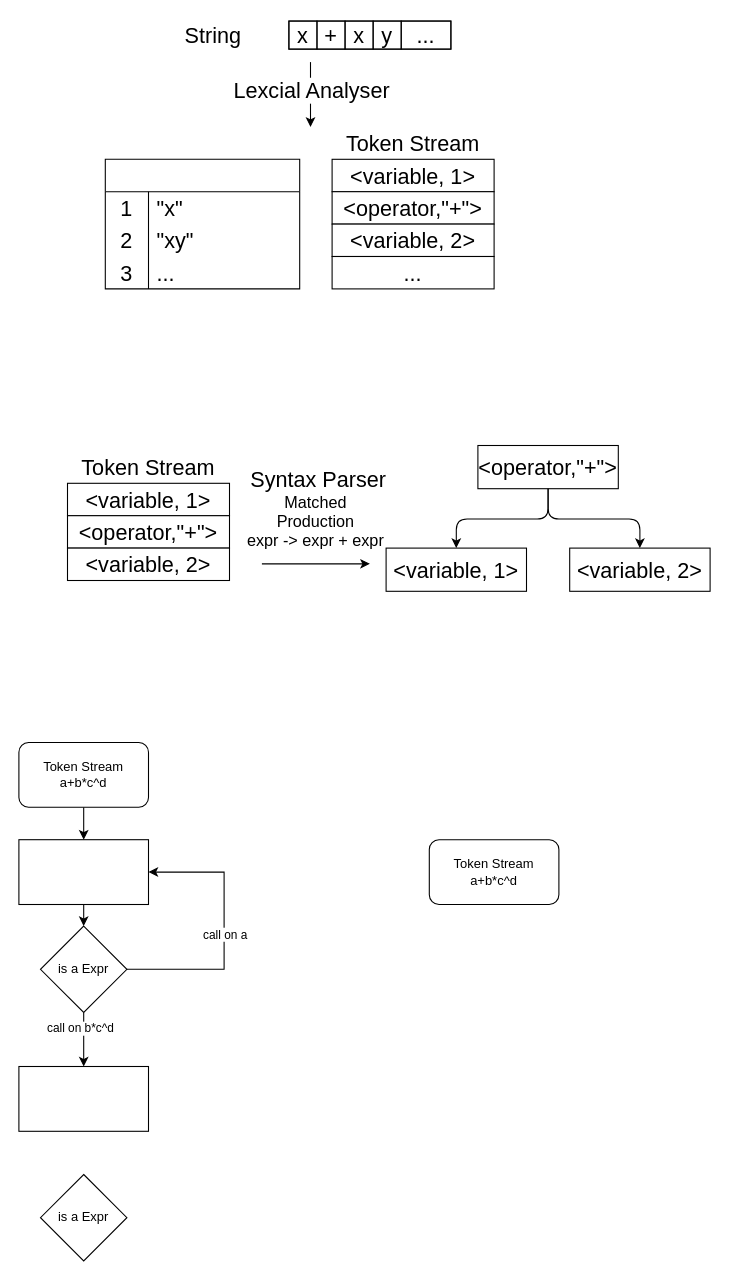
The diagram is 729 pixels wide and 1280 high, and some of its shapes have lost their labels. The shapes that lost their labels are listed below. From the top down, each one's box as (x1, y1, x2, y2) in pixels, then its label:
(104, 158, 300, 289): VariableList
(18, 839, 148, 905): exprParser
(18, 1065, 148, 1131): termParser
